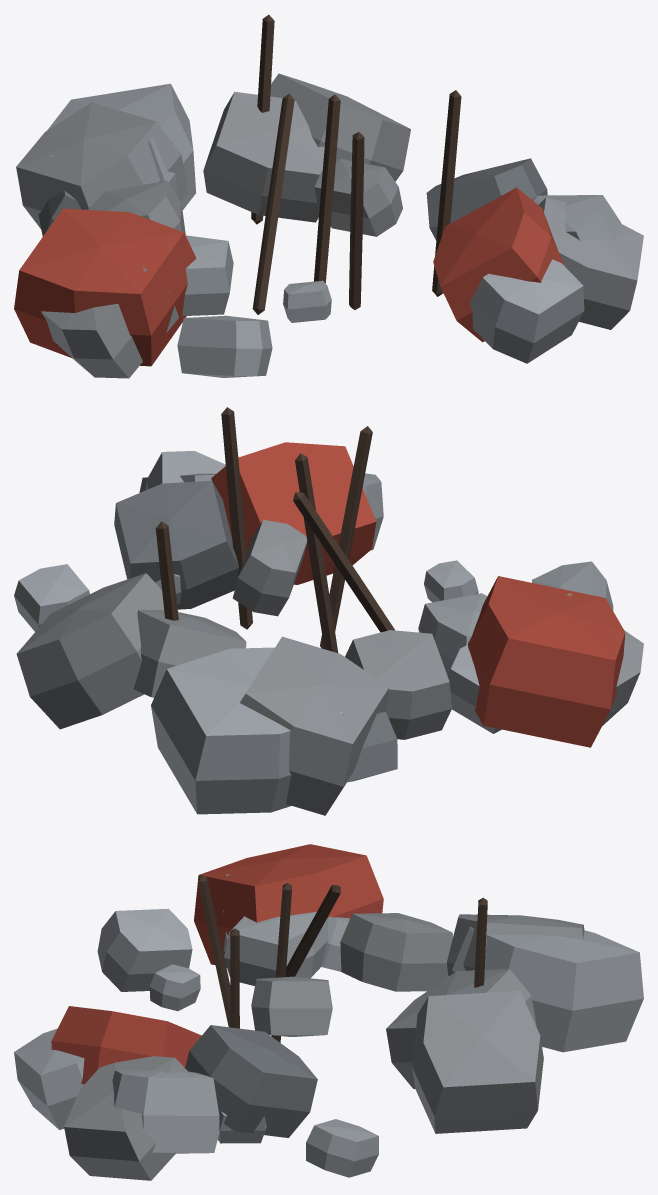
The model's file is s-rubble-2.glb.
3 views of the same model, one above another, from view 1: azimuth 30°, elevation 25°; view 2: azimuth 150°, elevation 25°; view 3: azimuth 270°, elevation 25° (orthographic). The views are drawn at different scales.
Parts seen in each view (by area): view 1: p; view 2: p; view 3: p.
Part boxes in pixels (x1=…): p: x1=14, y1=14, x2=643, y2=378; p: x1=14, y1=407, x2=643, y2=815; p: x1=14, y1=844, x2=643, y2=1180.
Bounding box in the file's own units: 2.49 × 0.9161 × 2.52.
